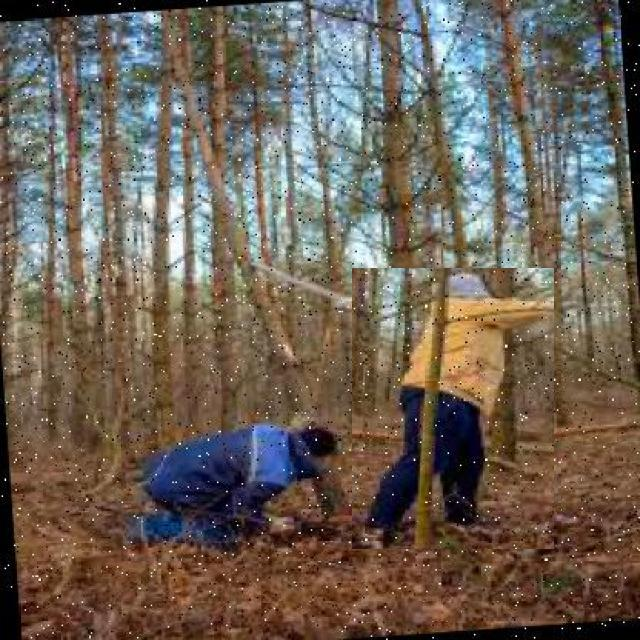poacher: (352, 268, 554, 549), (110, 396, 358, 558), (226, 222, 523, 321)
